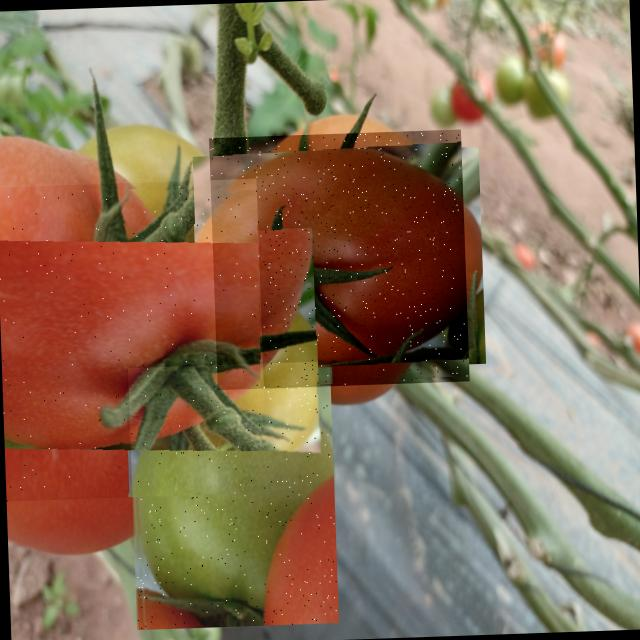Ripe Tomato: (0, 178, 267, 501), (208, 129, 470, 390)
Unripe Tomato: (128, 360, 339, 630)
